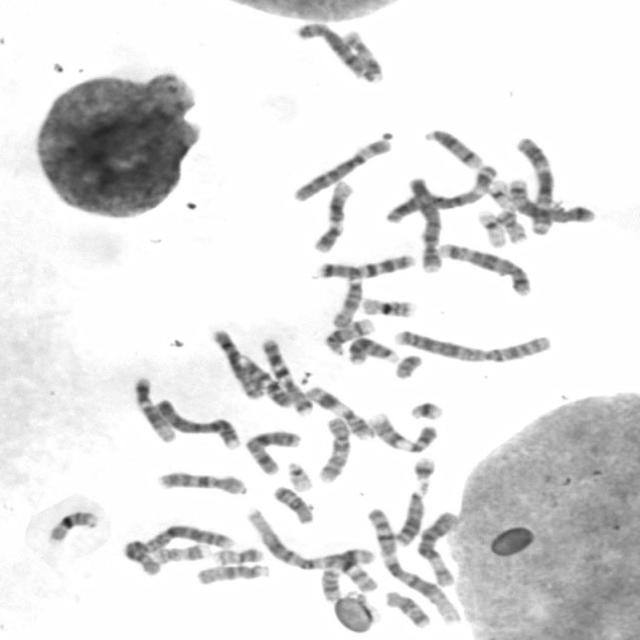A1: (364, 504, 464, 626), (244, 506, 378, 572)
A2: (390, 323, 556, 365), (116, 521, 238, 578)
A3: (379, 161, 500, 225), (512, 133, 557, 238)
B4: (150, 395, 243, 452), (403, 171, 445, 274)
B5: (434, 238, 533, 298), (502, 174, 597, 226)
C10: (314, 413, 354, 484), (153, 468, 248, 496)
C11: (301, 382, 375, 441), (319, 546, 375, 603)
C12: (309, 178, 355, 255), (129, 373, 177, 444)
C6: (290, 134, 393, 202), (412, 507, 460, 590)
C7: (255, 332, 316, 416), (312, 250, 416, 280)
C8: (208, 324, 266, 401), (292, 21, 367, 77)
C9: (234, 350, 296, 410), (365, 408, 441, 454)
D13: (392, 482, 428, 548), (342, 334, 402, 366)
D14: (419, 124, 485, 169), (320, 314, 376, 356)
D15: (327, 272, 364, 328), (192, 561, 271, 587)
E16: (43, 506, 101, 545), (357, 293, 418, 319)
E17: (340, 28, 385, 83), (150, 541, 208, 565)
E18: (381, 588, 433, 630), (269, 482, 317, 524)
F19: (474, 207, 507, 248), (484, 177, 516, 212)
F20: (494, 206, 529, 243), (211, 544, 264, 565)
G21: (405, 398, 446, 422), (409, 454, 436, 485)
G22: (346, 589, 384, 624), (283, 458, 315, 493)
X: (242, 426, 303, 478)
Y: (391, 352, 424, 381)
